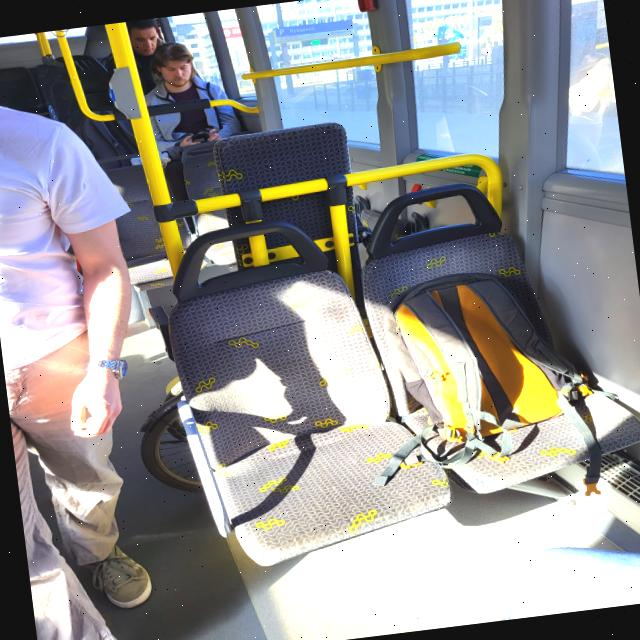empty-seat-frontal: (140, 203, 456, 581)
